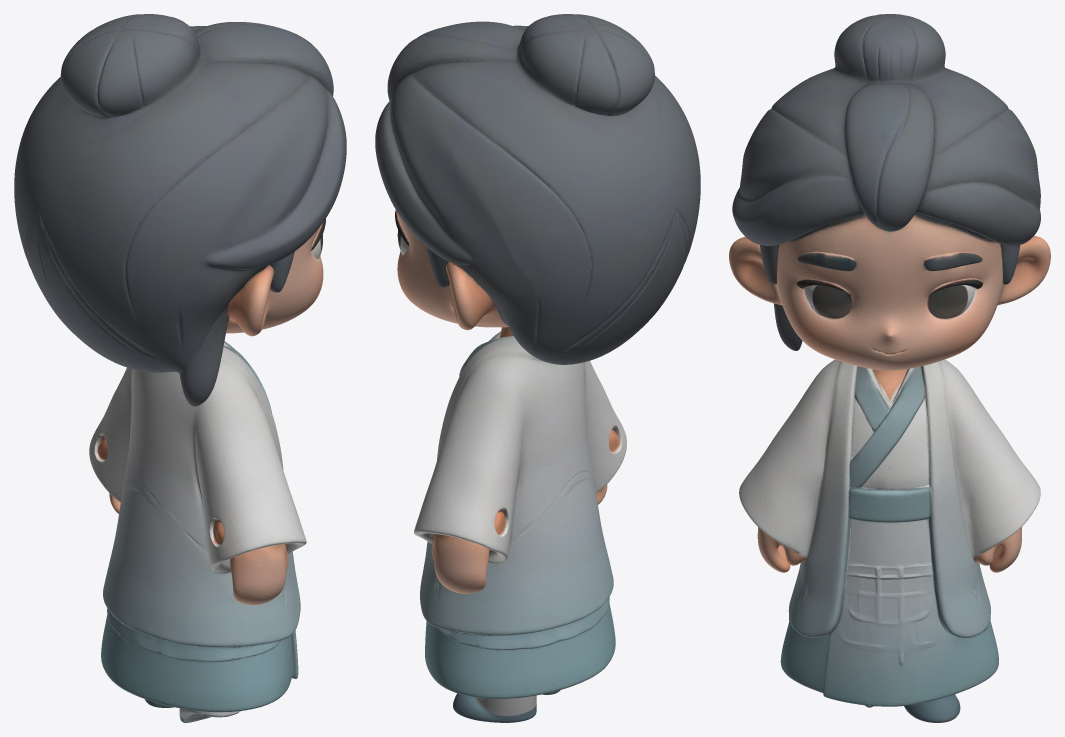
Rendered from 3_soft.glb.
3 renders of one model, left to right at view 1: azimuth 30°, elevation 25°; view 2: azimuth 150°, elevation 25°; view 3: azimuth 270°, elevation 25°, orthographic. The views are drawn at different scales.
Parts seen in each view (by area): view 1: tripo_node_754a4b50-acc5-483d-a363-75392c76676b; view 2: tripo_node_754a4b50-acc5-483d-a363-75392c76676b; view 3: tripo_node_754a4b50-acc5-483d-a363-75392c76676b.
Part boxes in pixels (box(x1,y1,x2,y2)): tripo_node_754a4b50-acc5-483d-a363-75392c76676b: box(14, 14, 346, 722); tripo_node_754a4b50-acc5-483d-a363-75392c76676b: box(375, 14, 700, 722); tripo_node_754a4b50-acc5-483d-a363-75392c76676b: box(729, 14, 1050, 722).
Bounding box in the file's own units: 0.4311 × 1 × 0.4443.
Materials: 1 (1 with a texture image).
